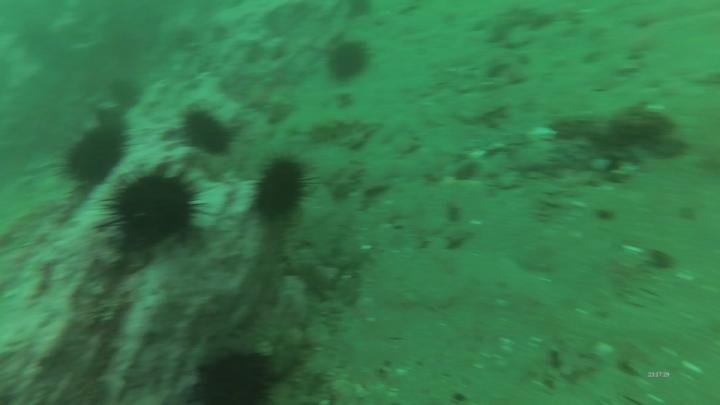echinus: (97, 161, 205, 256), (182, 345, 277, 405), (252, 151, 324, 229), (52, 122, 132, 191), (176, 106, 239, 160), (324, 38, 374, 84), (107, 81, 138, 110)
holothurian: (304, 117, 360, 145)
